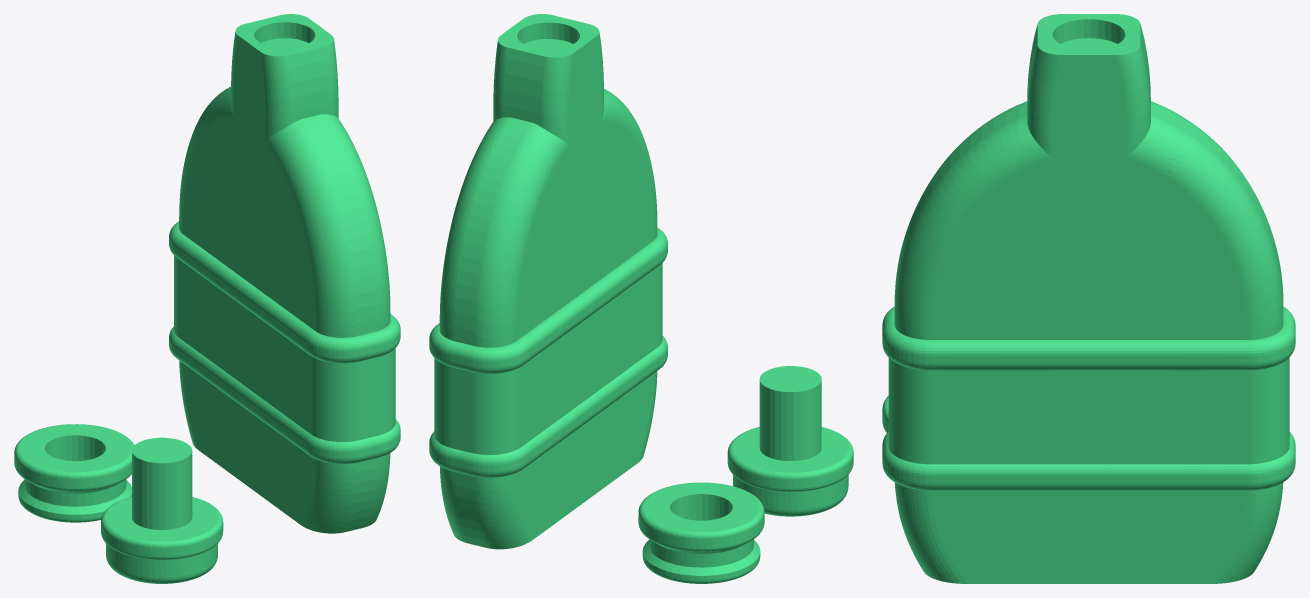
The model's file is canteen.glb.
The picture shows the model from 3 angles, left to right: view 1: azimuth 30°, elevation 25°; view 2: azimuth 150°, elevation 25°; view 3: azimuth 270°, elevation 25°; orthographic projection. The views are drawn at different scales.
Parts seen in each view (by area): view 1: vodka_bottle_ringed_fixed; view 2: vodka_bottle_ringed_fixed; view 3: vodka_bottle_ringed_fixed.
Boxes of the visible parts, bbox=[...] form: vodka_bottle_ringed_fixed: bbox=[14, 14, 400, 583]; vodka_bottle_ringed_fixed: bbox=[429, 14, 853, 583]; vodka_bottle_ringed_fixed: bbox=[882, 14, 1295, 583].
Bounding box in the file's own units: 3.39 × 5.2 × 3.69.
